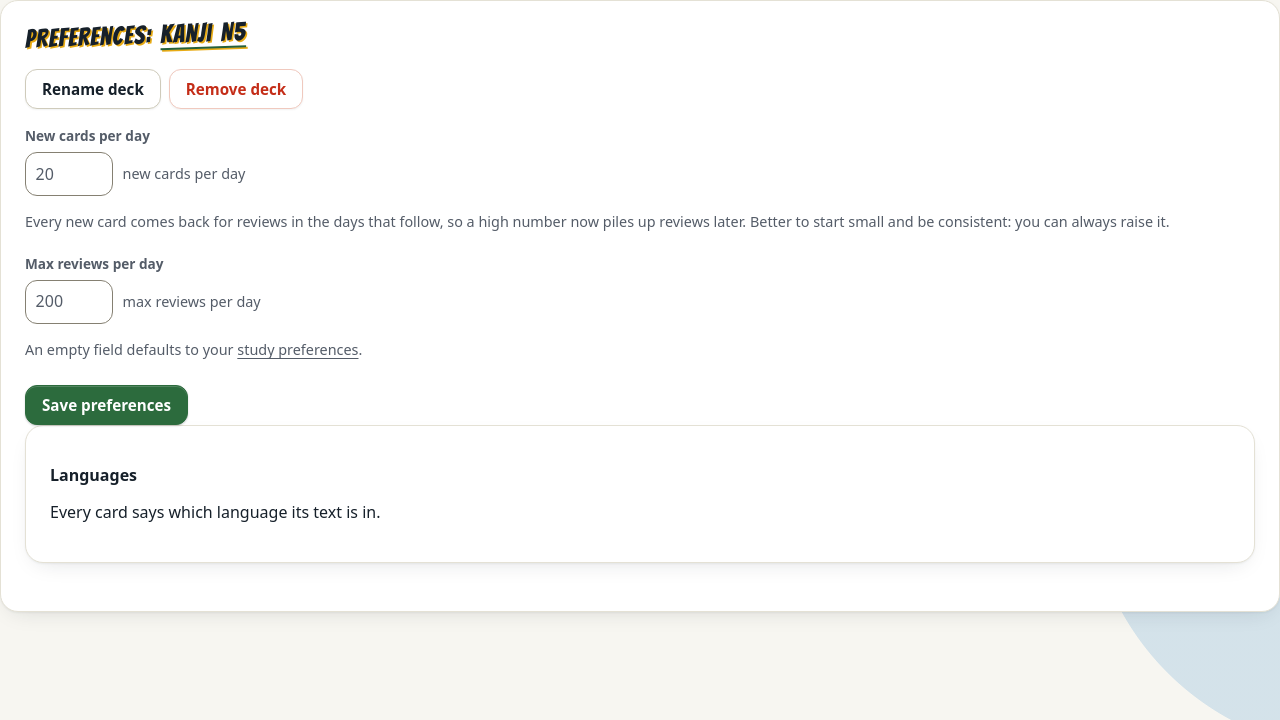
Test: DeckPreferencesScreen › cancels renaming without saving
The width and height of the screenshot is (1280, 720).
Click the button "Rename deck" at coordinates (93, 89), box [25,69,161,109]
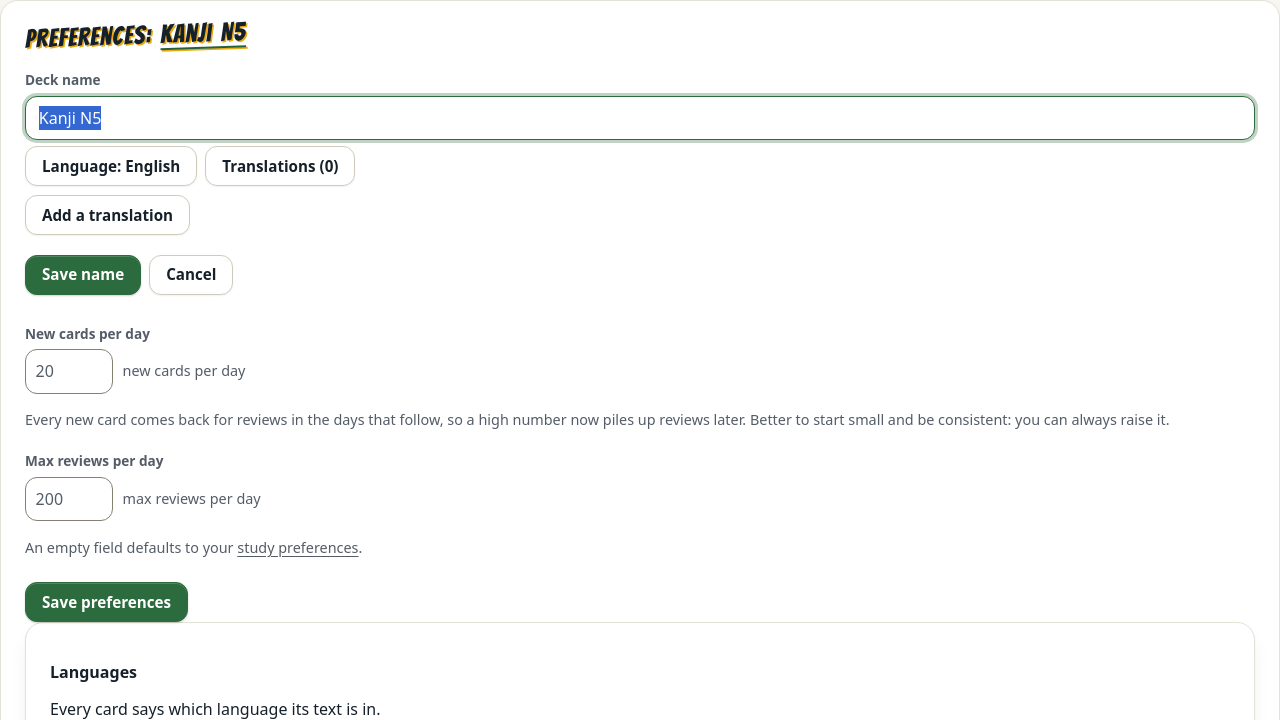
Click the button with aria-label "Cancel renaming" at coordinates (191, 275), box [149,255,234,295]
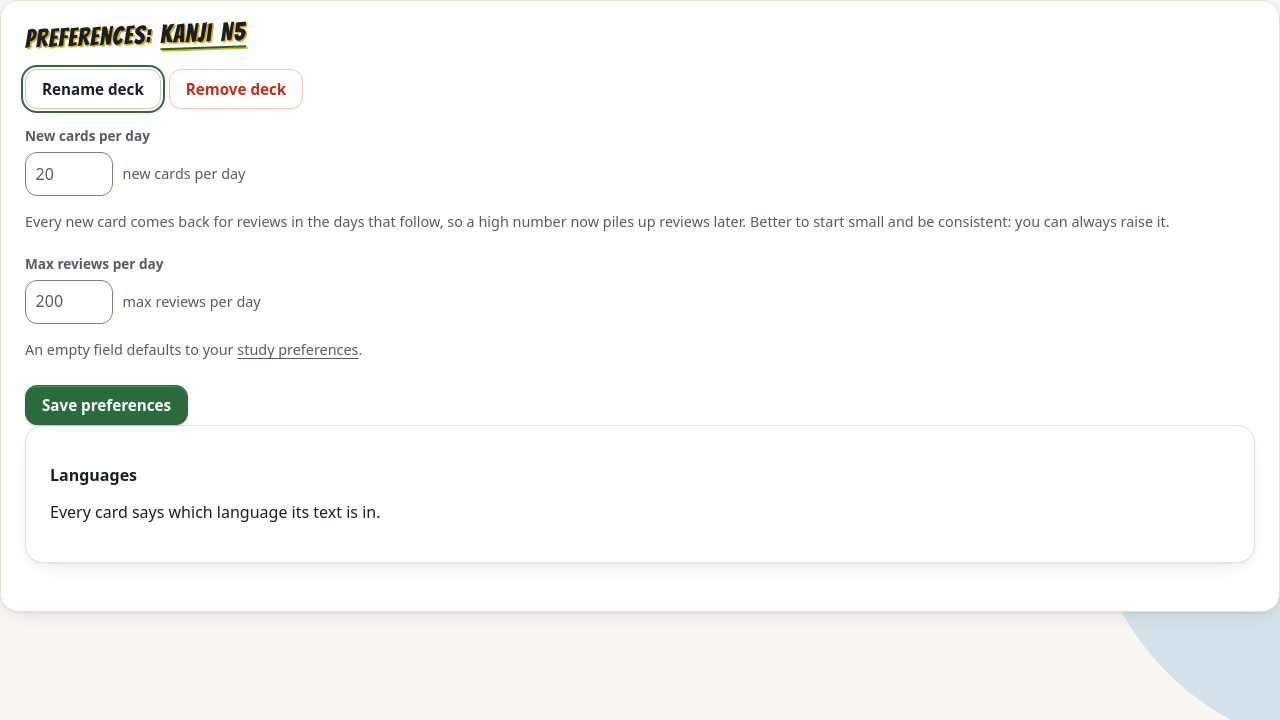
Result: the button "Rename deck" is shown at [25,69,161,109]
